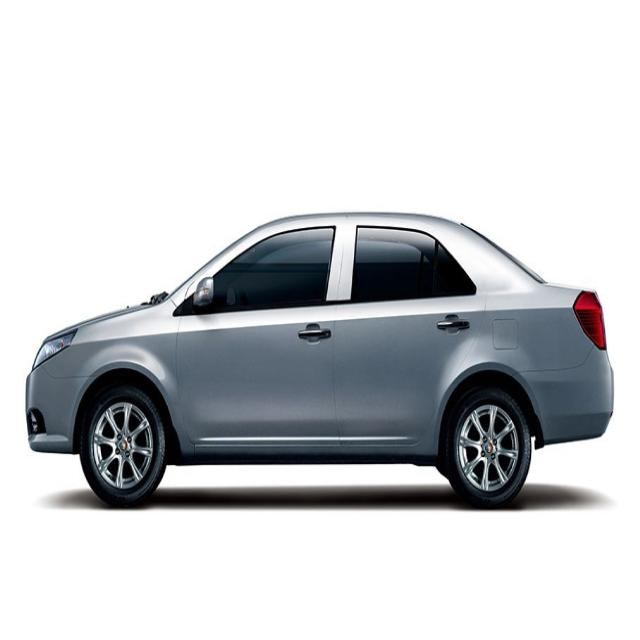back_left_side_light: (572, 288, 607, 350)
door: (341, 214, 488, 456)
front_left_side_door: (174, 212, 349, 453)
front_left_side_light: (33, 325, 78, 371)
front_left_side_mirror: (188, 276, 215, 311)
wheel: (82, 380, 166, 506), (448, 384, 530, 509)
